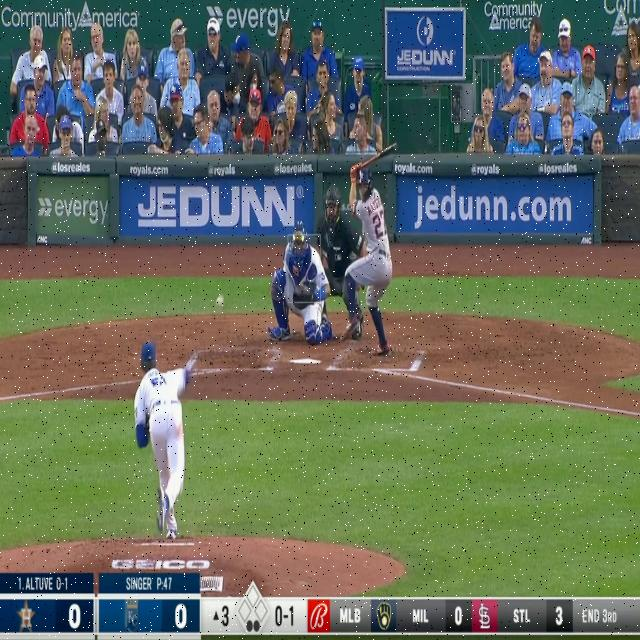baseball: (216, 293, 224, 308)
